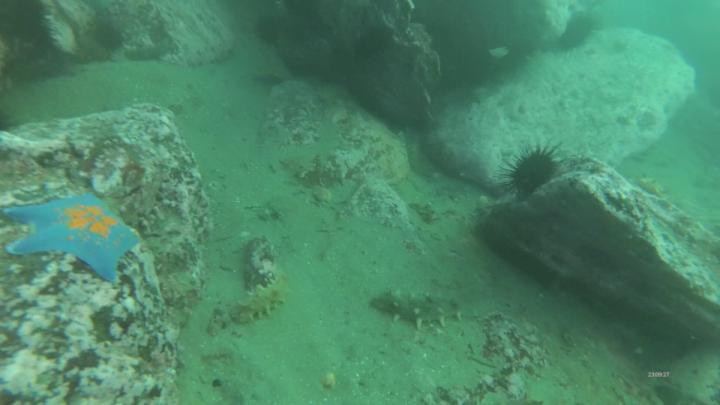echinus: (512, 146, 564, 200)
holothurian: (370, 284, 470, 333), (239, 271, 292, 325)
starfish: (1, 191, 140, 284)
